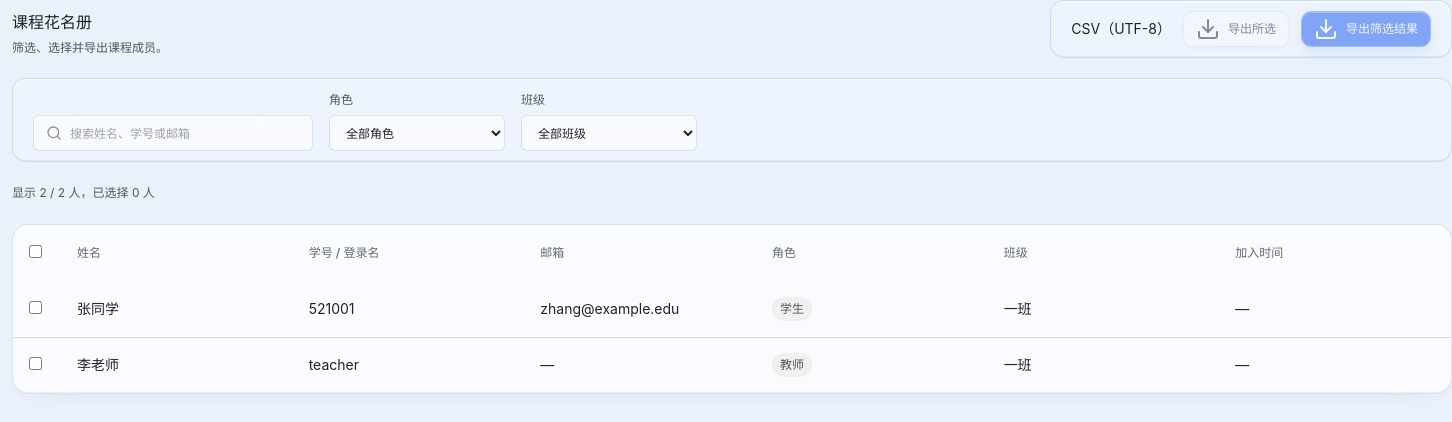
Scenario: RosterView › filters by text and role
Type "521001" into the search field named "搜索课程成员" at (166, 133), box [70,117,262,149]
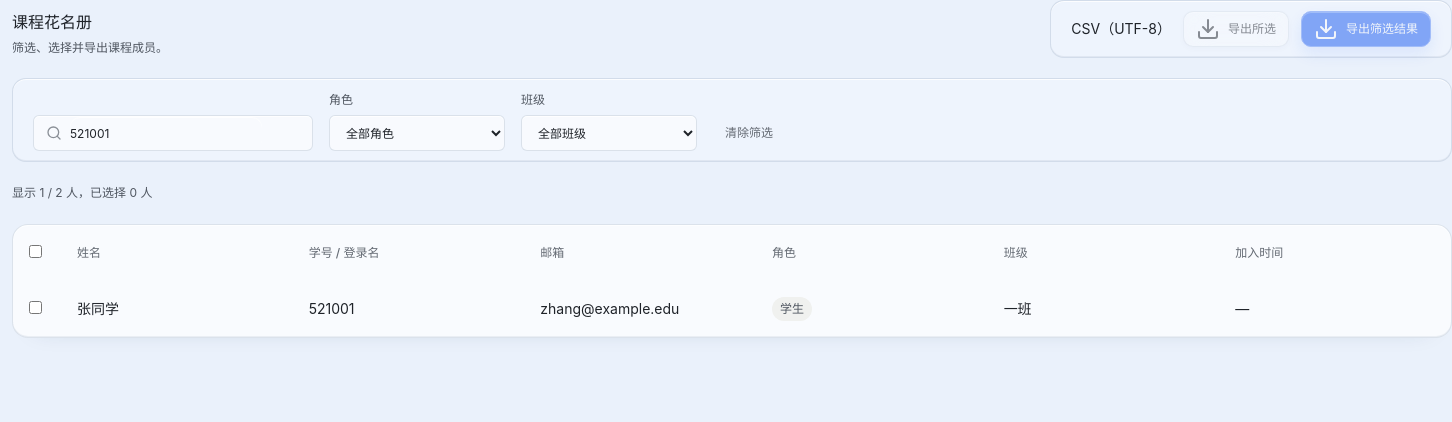
Expected: the text "张同学" is shown, [61,281,293,337]
Now the text "李老师" is gone
Select "教师" in the dropdown named "按角色筛选" at (417, 133), box [329,115,505,151]
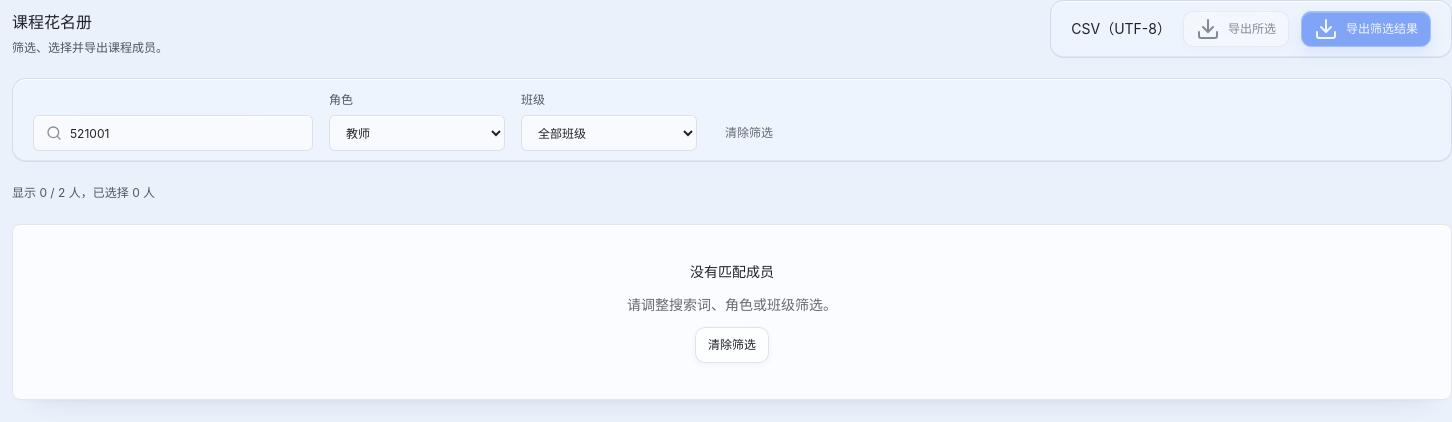
Now the text "没有匹配成员" is shown, box [690,261,774,283]
